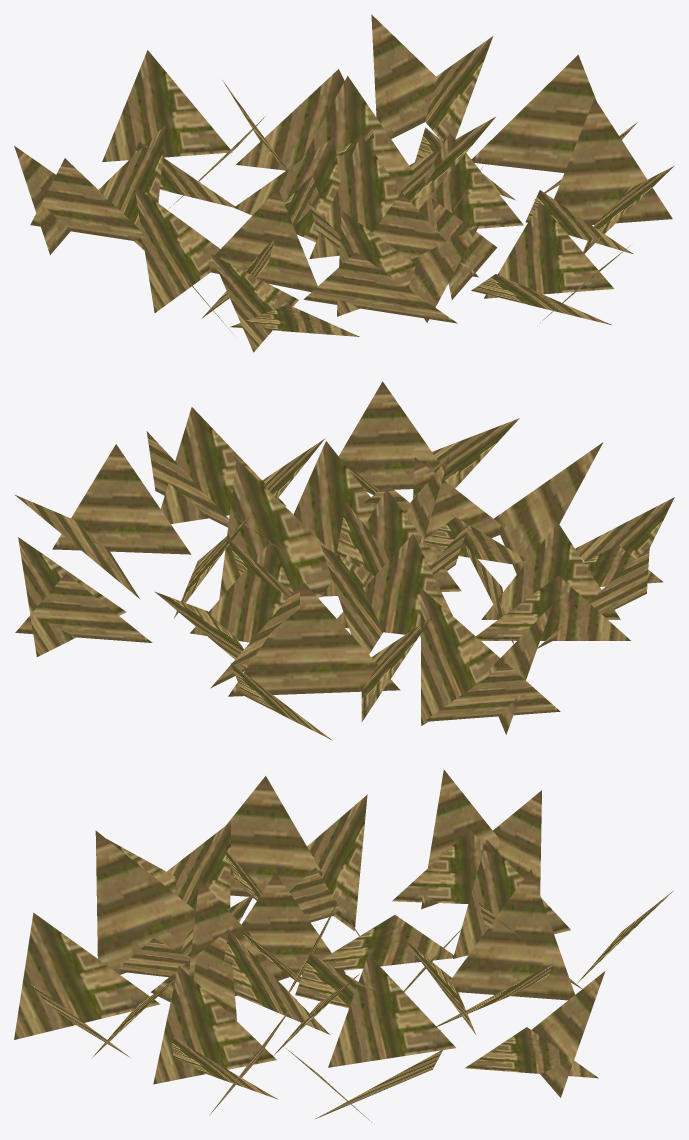
Rendered from dec_Ground_Grass_11_26992.glb.
3 renders of one model, top to bottom at view 1: azimuth 30°, elevation 25°; view 2: azimuth 150°, elevation 25°; view 3: azimuth 270°, elevation 25°, orthographic. The views are drawn at different scales.
Parts seen in each view (by area): view 1: Ground_Grass_11_mesh; view 2: Ground_Grass_11_mesh; view 3: Ground_Grass_11_mesh.
Boxes of the visible parts, left/top/right/bottom form: Ground_Grass_11_mesh: left=14, top=14, right=673, bottom=352; Ground_Grass_11_mesh: left=15, top=381, right=674, bottom=740; Ground_Grass_11_mesh: left=14, top=770, right=673, bottom=1122.
Bounding box in the file's own units: 1.64 × 0.2919 × 1.74.
1 material, 1 textured.
